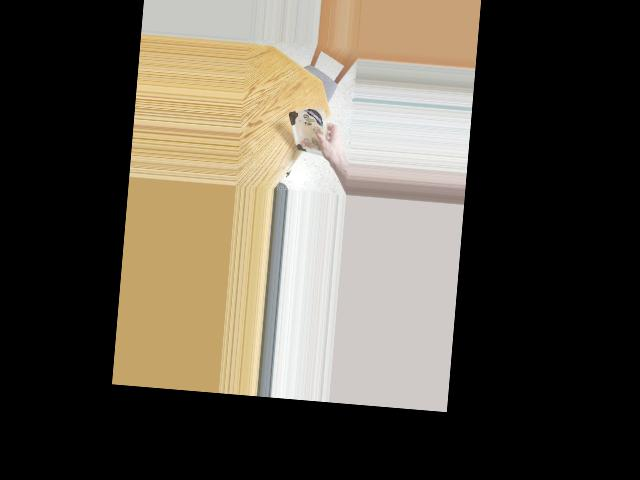cheese: (290, 104, 329, 158)
